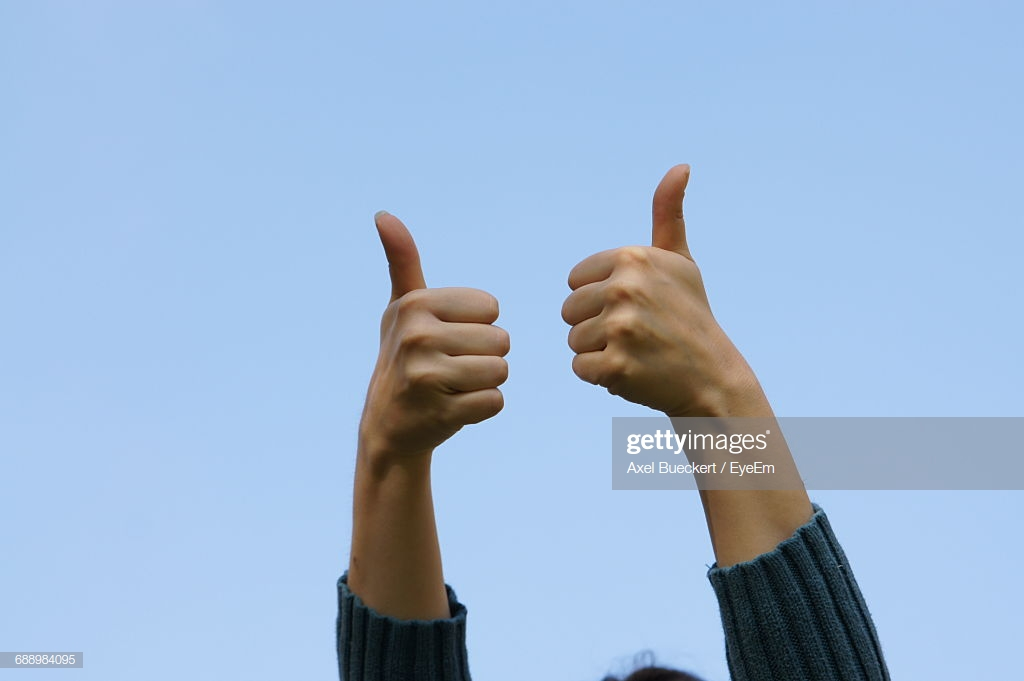thumbsup: (561, 163, 696, 391), (373, 209, 511, 423)
